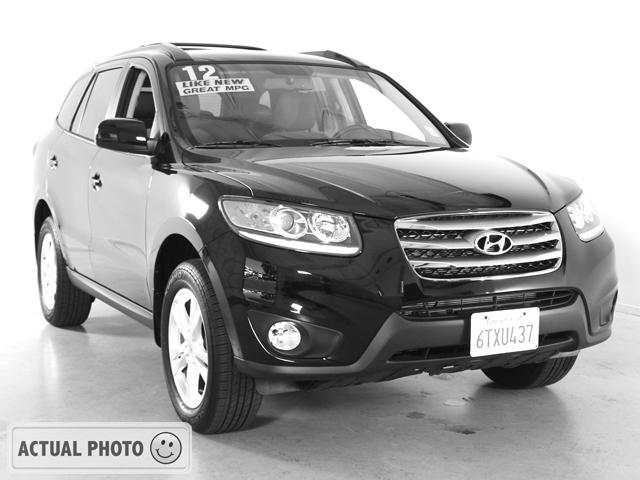car: (32, 43, 620, 437)
